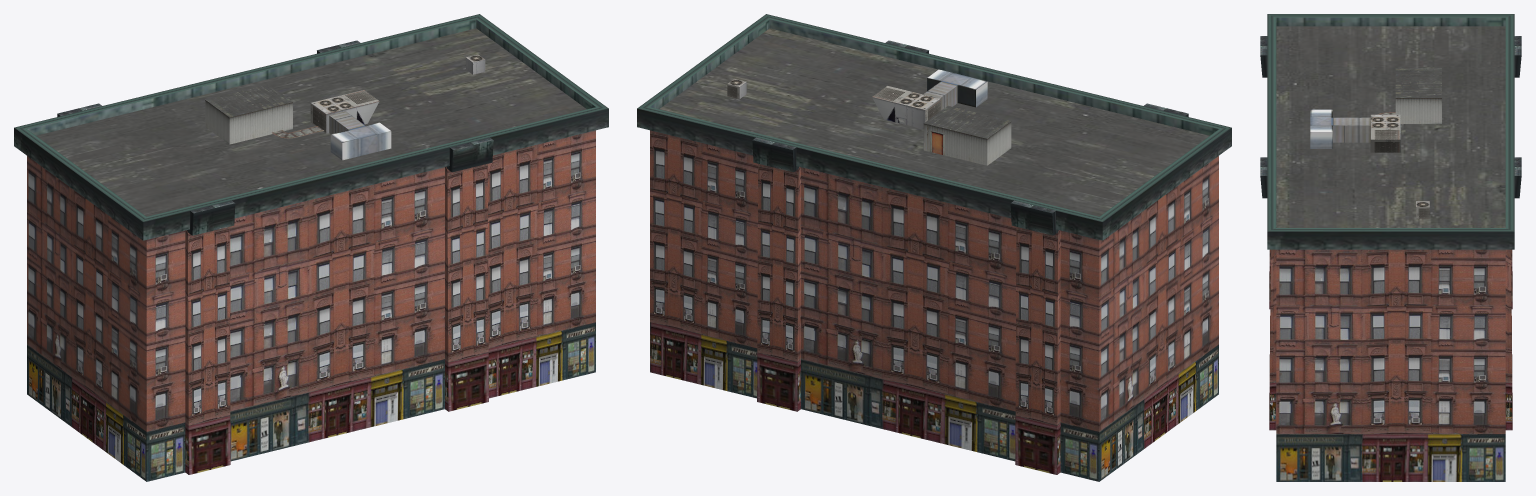
Rendered from Long_Building.fbx.
3 renders of one model, left to right at view 1: azimuth 30°, elevation 25°; view 2: azimuth 150°, elevation 25°; view 3: azimuth 270°, elevation 25°, orthographic. The views are drawn at different scales.
Visible parts, largest first — view 1: Long_Building; view 2: Long_Building; view 3: Long_Building.
Part boxes in pixels (x1,y1,x2,y2): Long_Building: [14, 14, 608, 481]; Long_Building: [637, 14, 1231, 481]; Long_Building: [1260, 14, 1521, 481].
Size of the model in its own units: 33.49 by 16.99 by 19.47.
